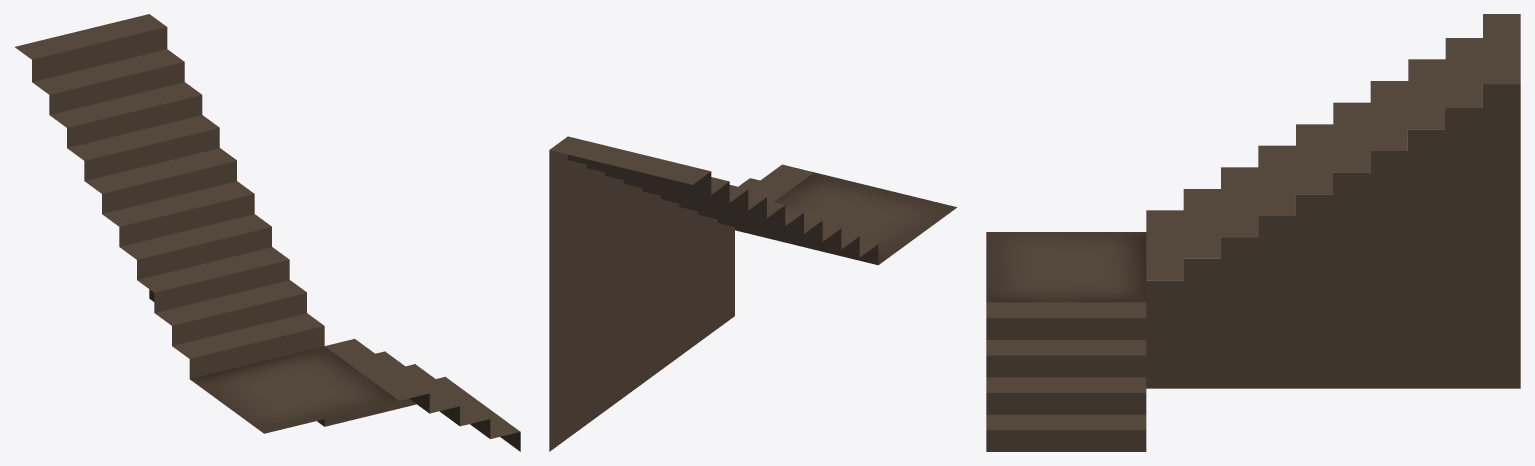
The model's file is Stairs.fbx.
3 views of the same model, side by side, from view 1: azimuth 30°, elevation 25°; view 2: azimuth 150°, elevation 25°; view 3: azimuth 270°, elevation 25° (orthographic). The views are drawn at different scales.
Visible parts, largest first — view 1: polySurface2; view 2: polySurface2; view 3: polySurface2.
Part boxes in pixels (x1,y1,x2,y2): polySurface2: (15, 14, 520, 451); polySurface2: (549, 136, 956, 451); polySurface2: (986, 14, 1520, 451).
Bounding box in the file's own units: 2.37 × 2.51 × 3.99.
